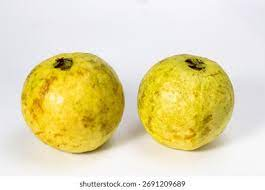guava: (72, 46, 242, 177)
